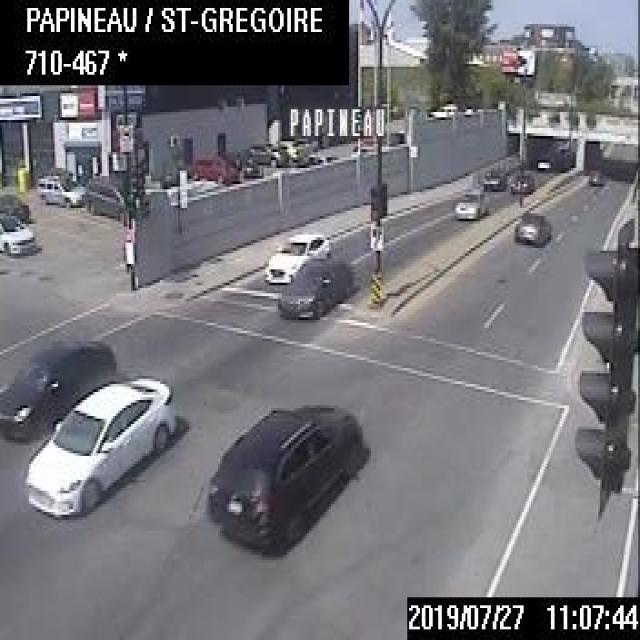vehicle: (205, 397, 364, 552), (23, 372, 173, 515), (0, 338, 115, 442), (276, 258, 352, 318), (263, 229, 330, 287), (0, 205, 36, 258), (34, 170, 84, 208), (84, 170, 123, 217), (187, 150, 240, 184), (511, 210, 551, 242), (246, 139, 288, 168), (451, 186, 487, 218), (508, 165, 535, 196), (274, 136, 305, 161), (479, 164, 505, 189), (587, 164, 604, 188), (535, 154, 551, 170)
